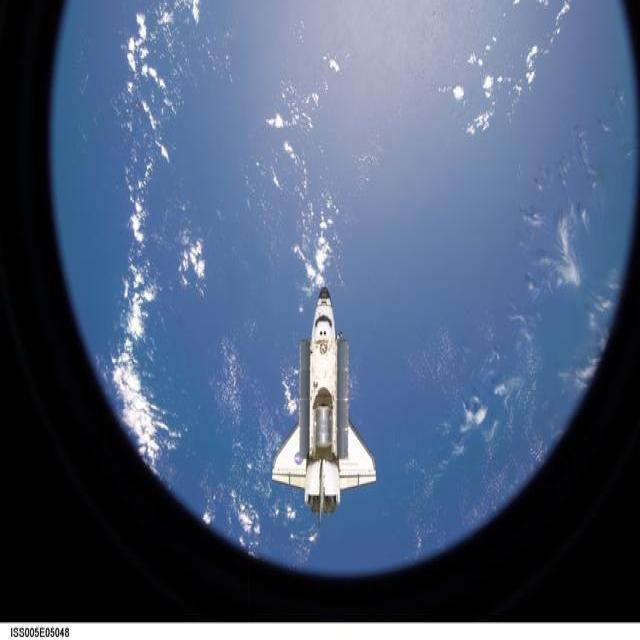medium_debris: (272, 287, 376, 514)
